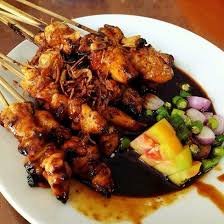sate: (3, 16, 223, 217)
